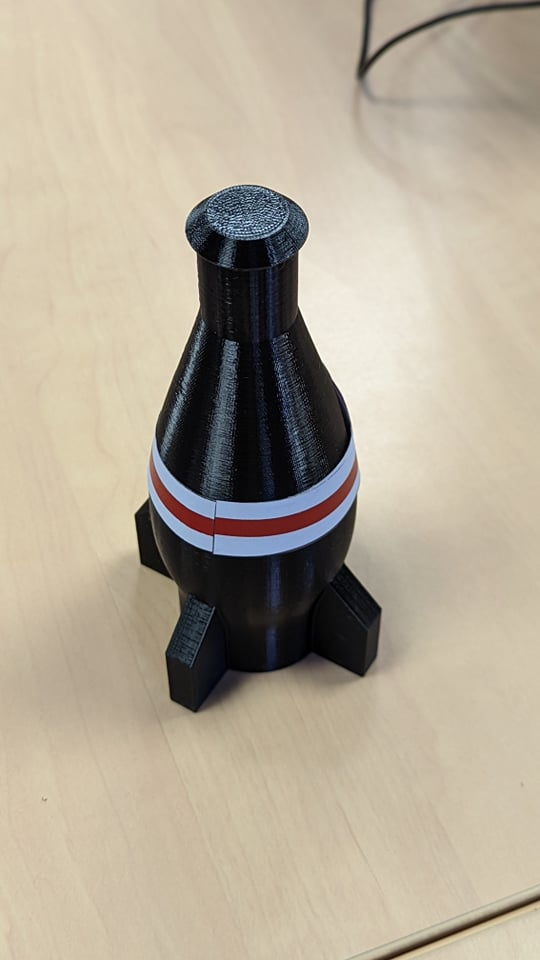bottle: (116, 182, 397, 731)
